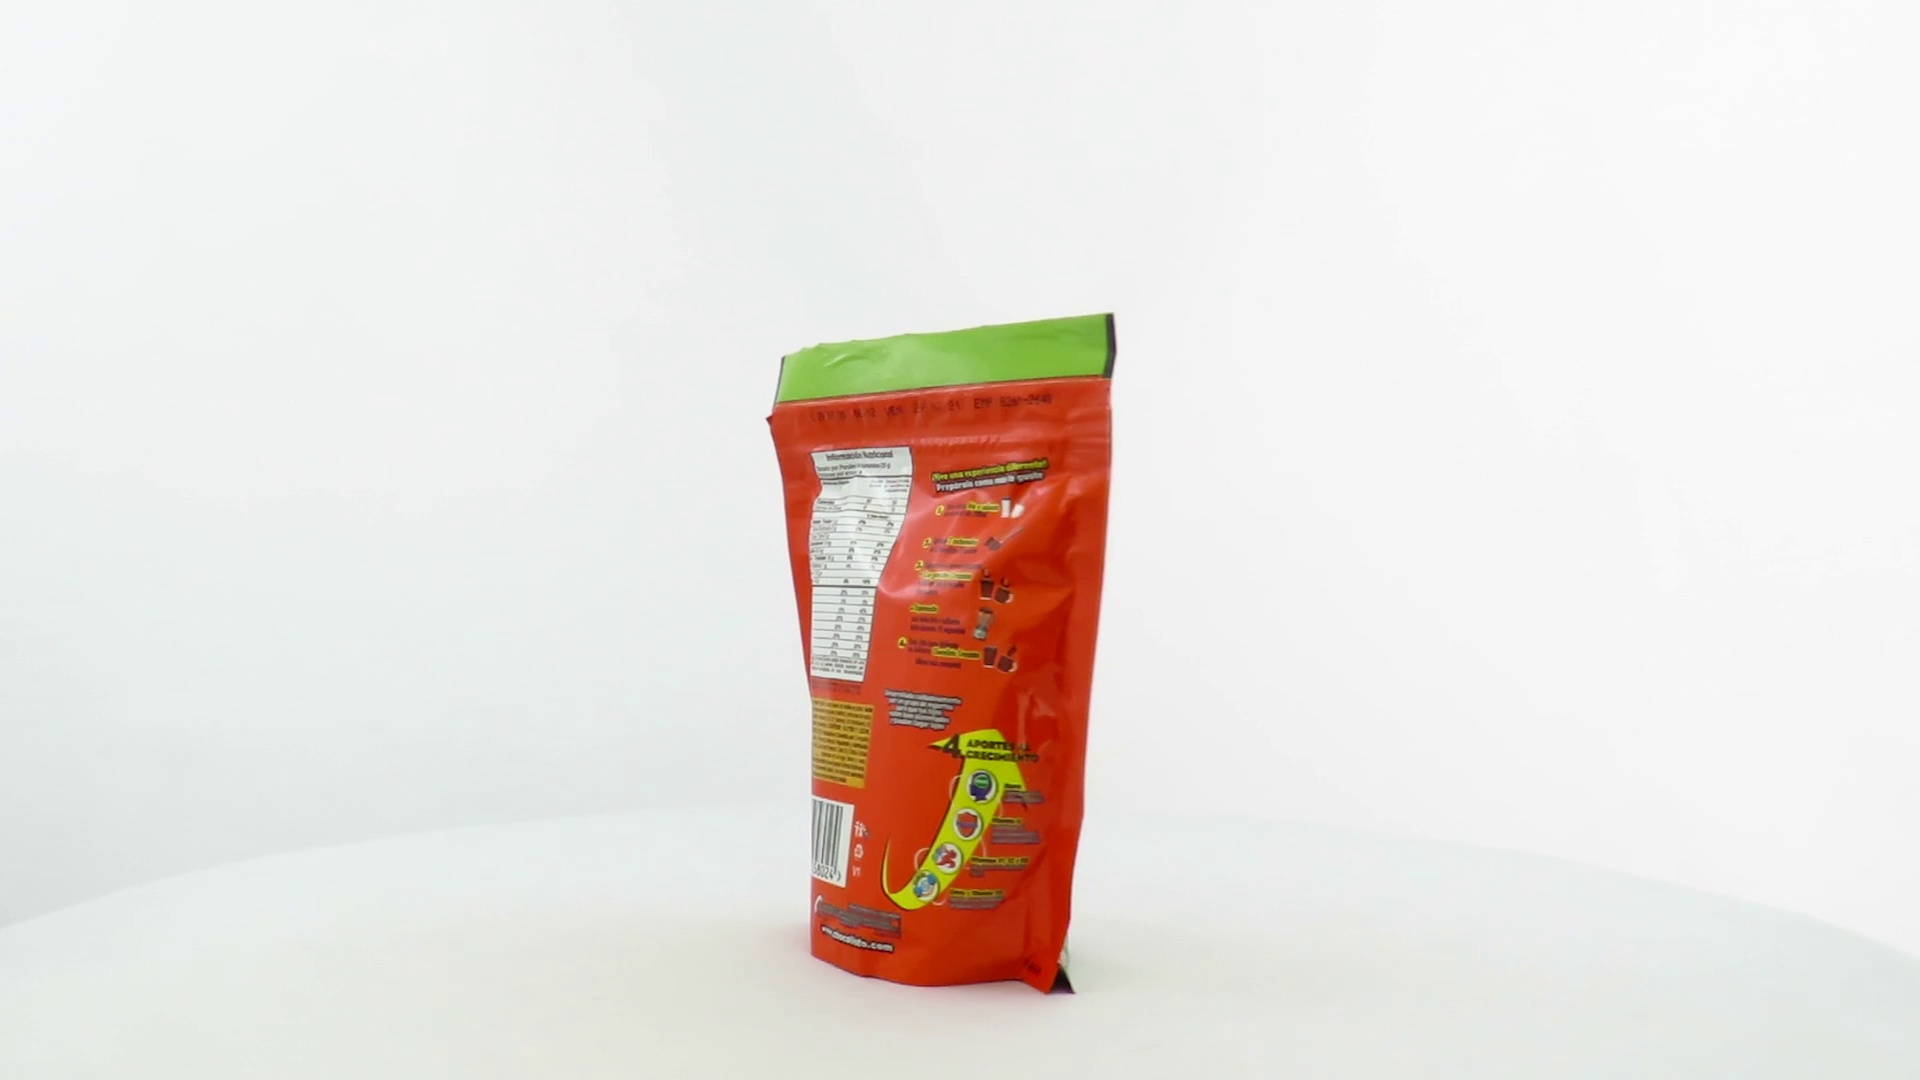COL0170102DYP10000: (761, 309, 1124, 1001)
